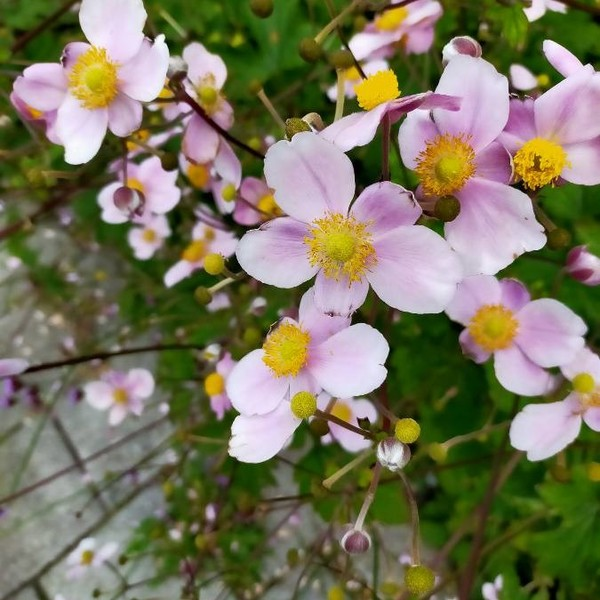obstacle: (33, 23, 560, 467)
